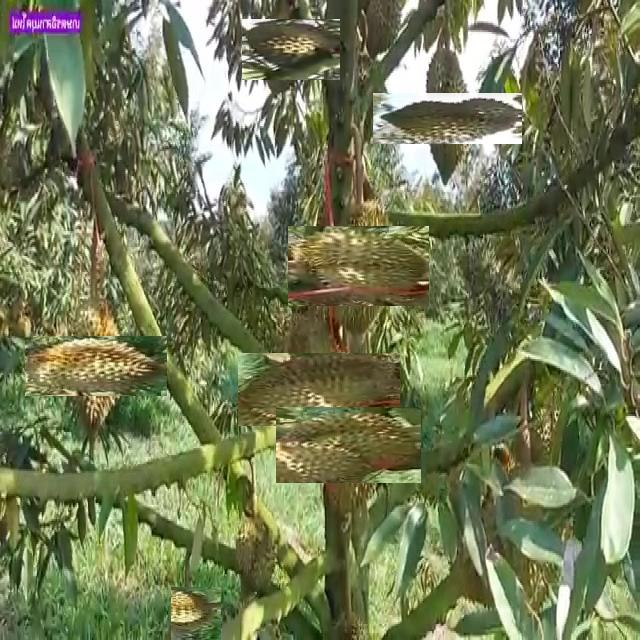durian: (260, 331, 378, 448), (303, 210, 414, 322), (294, 390, 404, 500), (45, 316, 147, 417), (397, 68, 497, 169), (251, 9, 331, 89), (232, 510, 278, 599), (170, 587, 222, 639)
